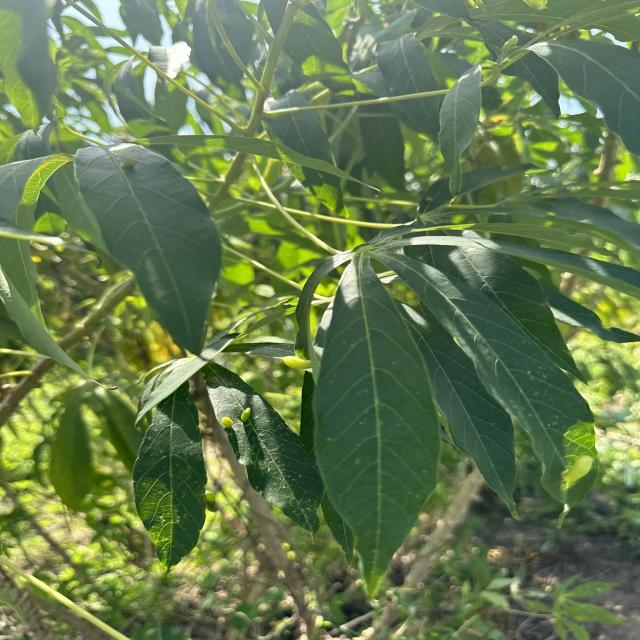Mosca: (282, 345, 347, 384), (217, 403, 269, 431), (115, 140, 144, 171)
